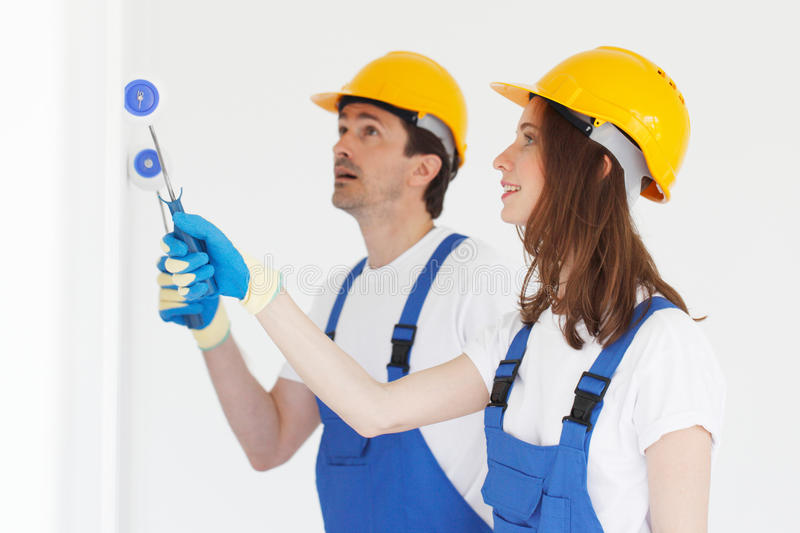casco: (489, 44, 691, 206), (308, 50, 468, 180)
